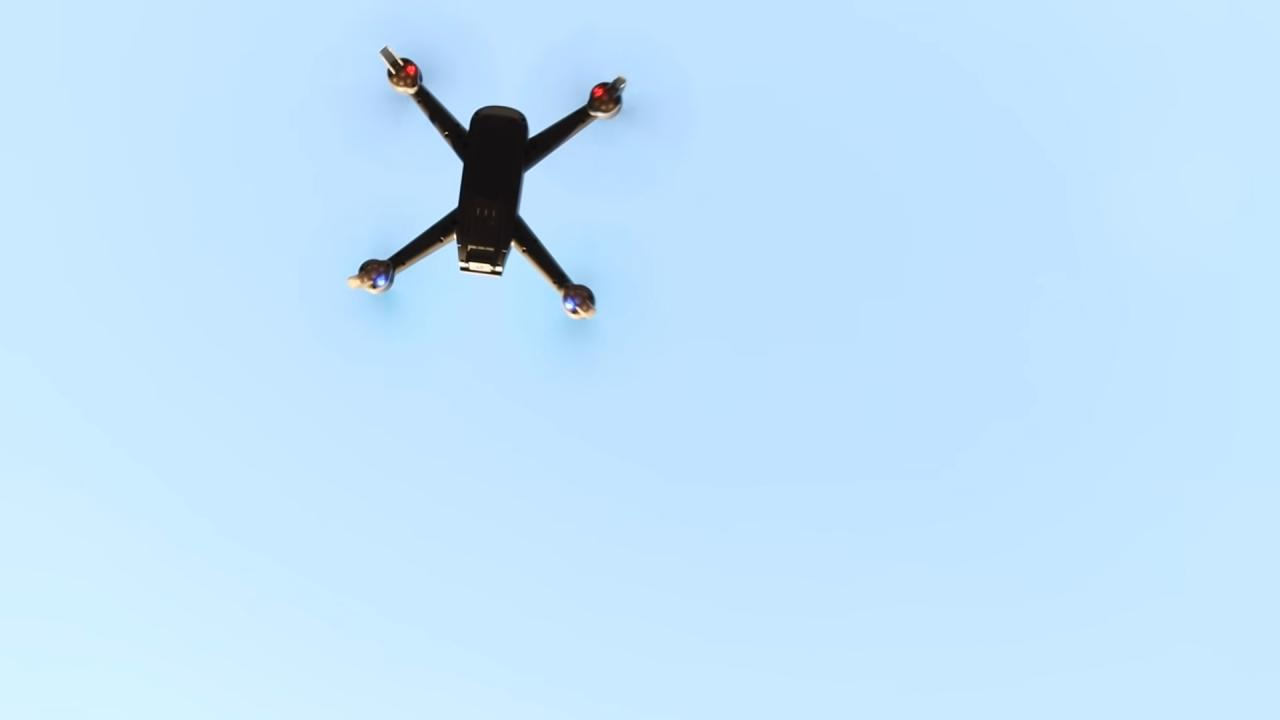Drone: (330, 40, 634, 340)
